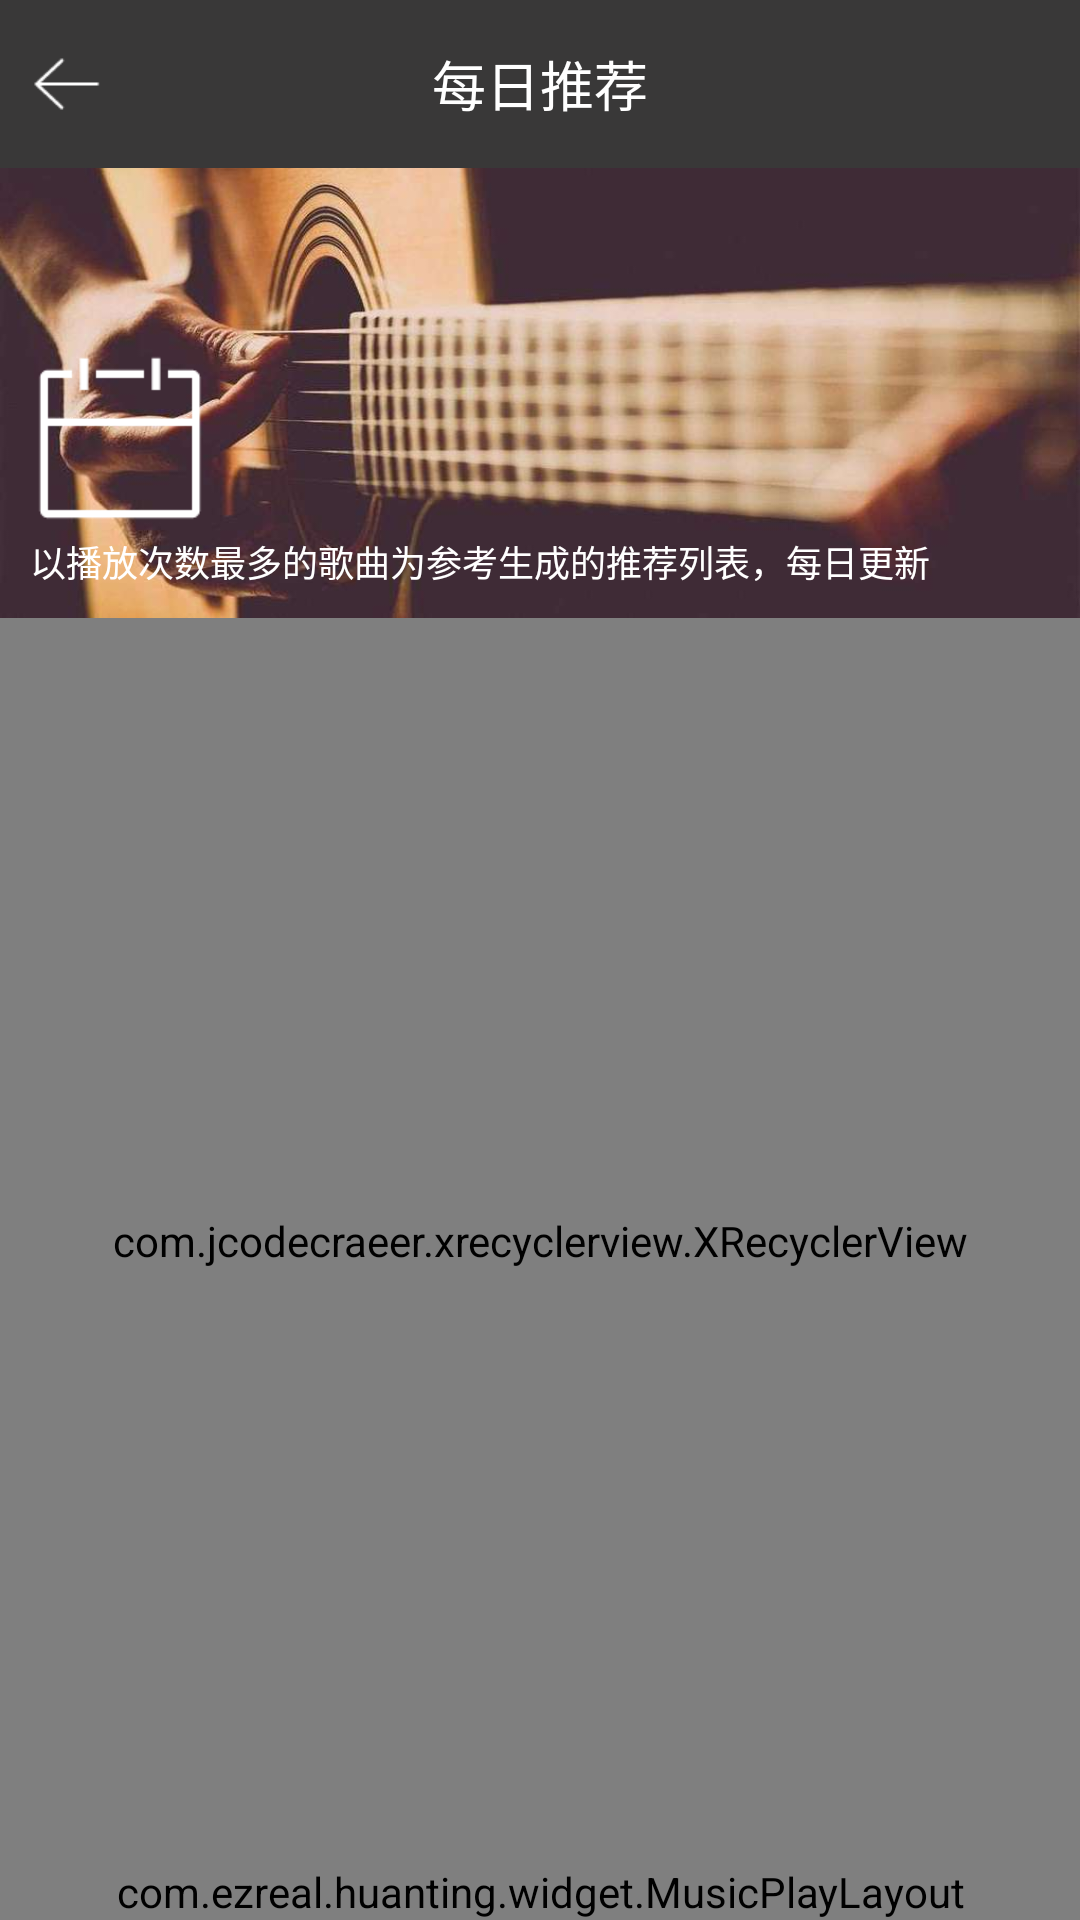

Icons on this 1080px×1920px Android screen, each with the point to tap as (x,y):
calen: (127,438)
title back: (66,84)
